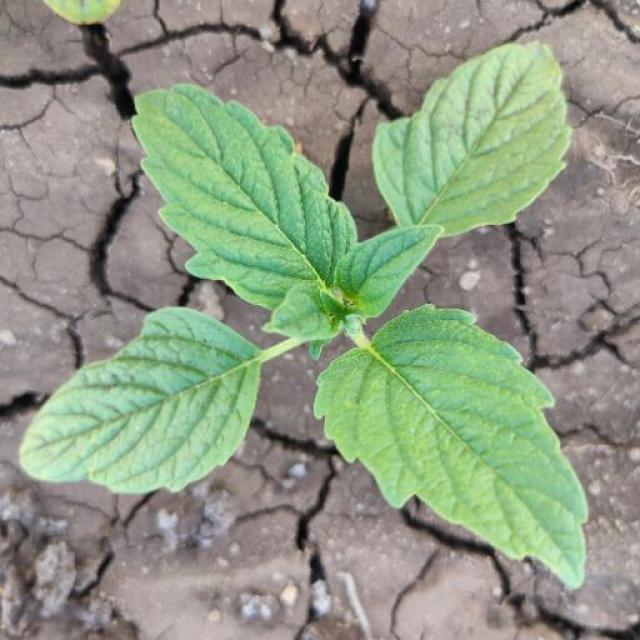weed: (14, 34, 594, 611)
